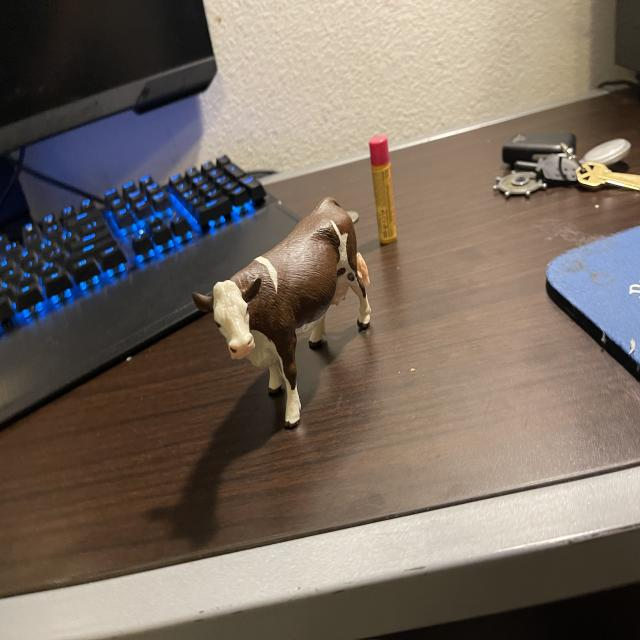cow: (183, 184, 431, 430)
